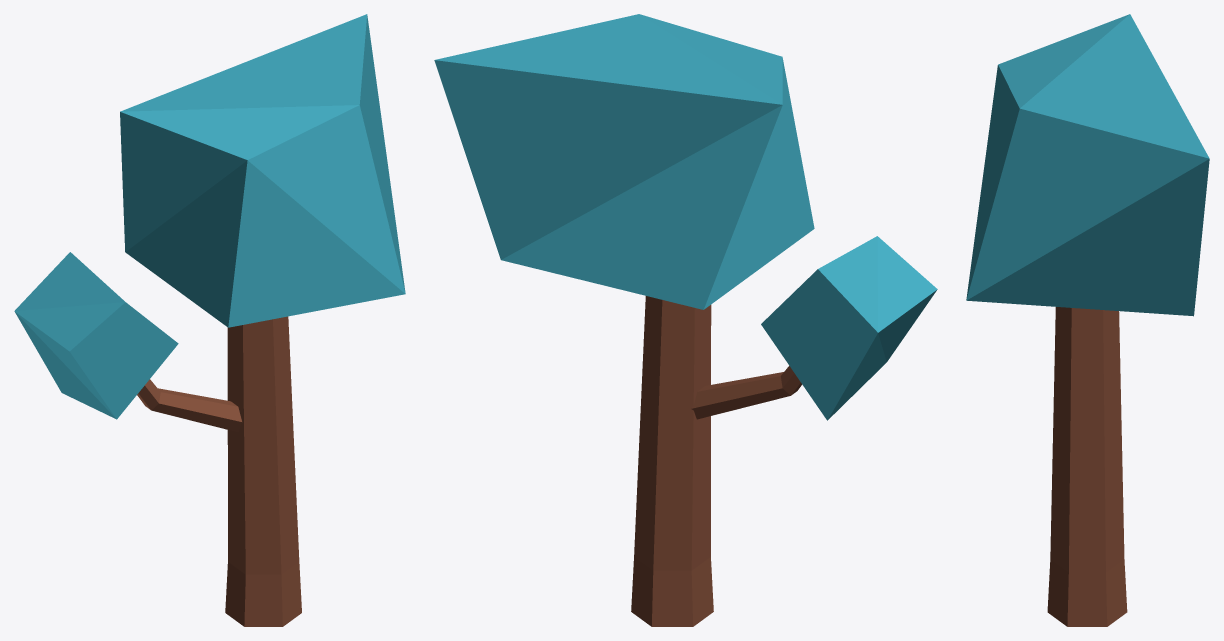
File: Tree_45_summer_blue_mat.fbx
The picture shows the model from 3 angles, left to right: view 1: azimuth 30°, elevation 25°; view 2: azimuth 150°, elevation 25°; view 3: azimuth 270°, elevation 25°; orthographic projection. The views are drawn at different scales.
Parts seen in each view (by area): view 1: Tree_45_summer_blue_mat; view 2: Tree_45_summer_blue_mat; view 3: Tree_45_summer_blue_mat.
Boxes of the visible parts, x1,y1,x2,y2 form: Tree_45_summer_blue_mat: (14,14,405,626); Tree_45_summer_blue_mat: (434,14,937,626); Tree_45_summer_blue_mat: (966,14,1209,626).
Size of the model in its own units: 139 by 179 by 73.58.
